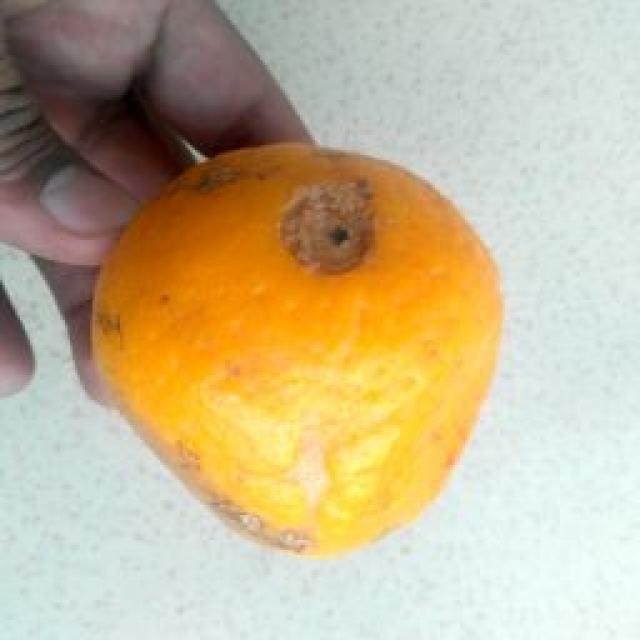Bad_Orange: (95, 145, 502, 554)
